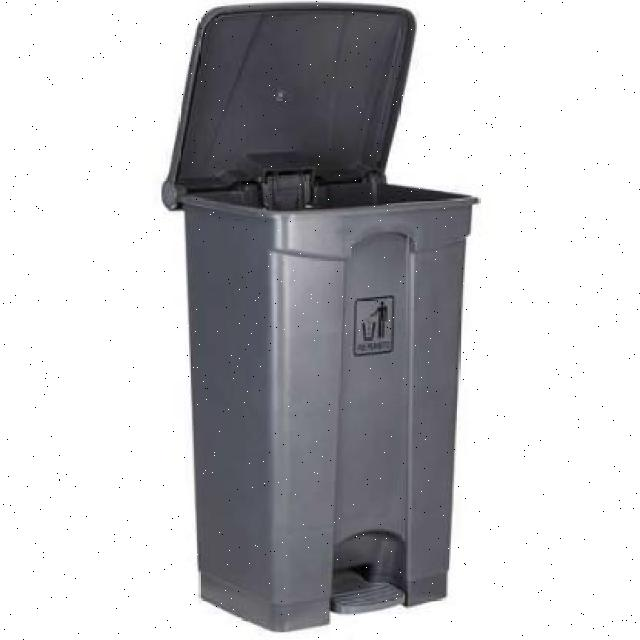garbage container: (148, 156, 526, 633)
